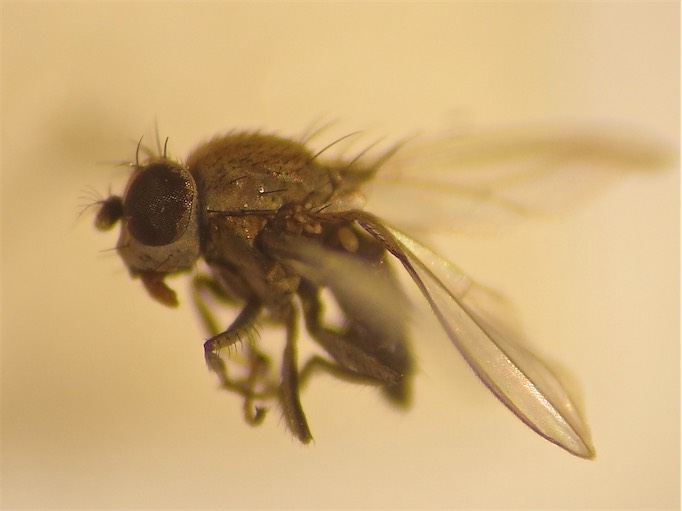Ephydridae: (75, 113, 600, 462)
